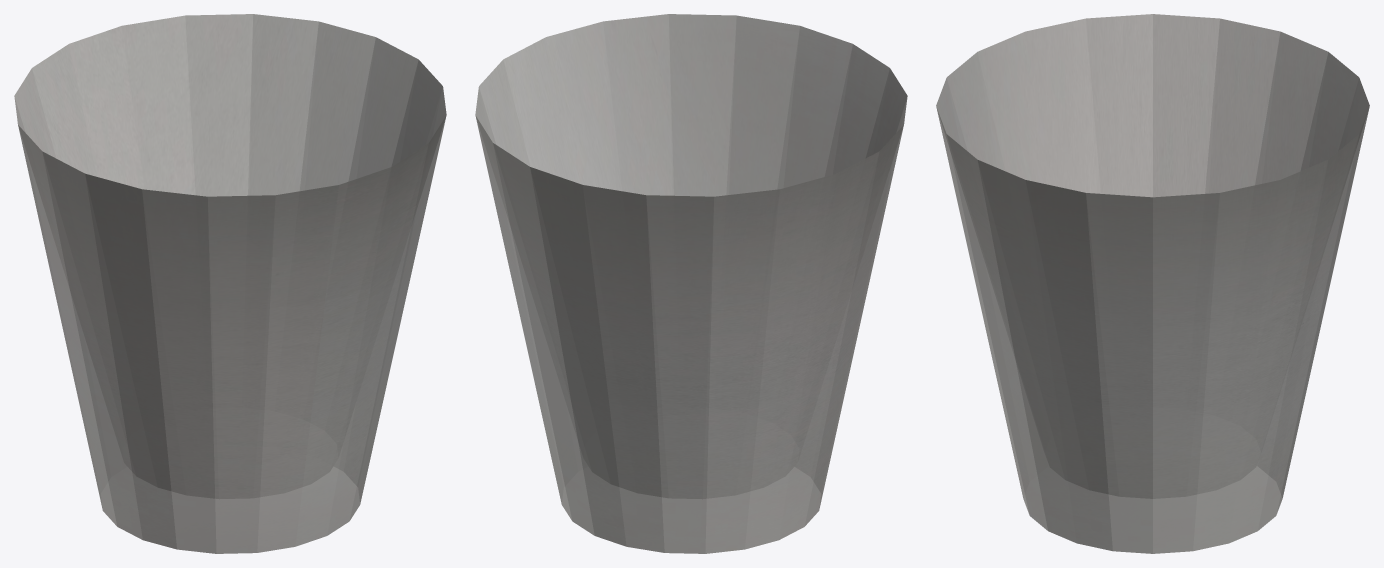
The model's file is low_poly_glass_cup_cc0.glb.
3 views of the same model, side by side, from view 1: azimuth 30°, elevation 25°; view 2: azimuth 150°, elevation 25°; view 3: azimuth 270°, elevation 25° (orthographic).
Parts seen in each view (by area): view 1: Object_2; view 2: Object_2; view 3: Object_2.
Boxes of the visible parts, x1,y1,x2,y2 form: Object_2: (14,14,446,553); Object_2: (475,14,907,553); Object_2: (936,14,1369,553).
Bounding box in the file's own units: 1 × 1 × 1.
Materials: 1 (1 with a texture image).
